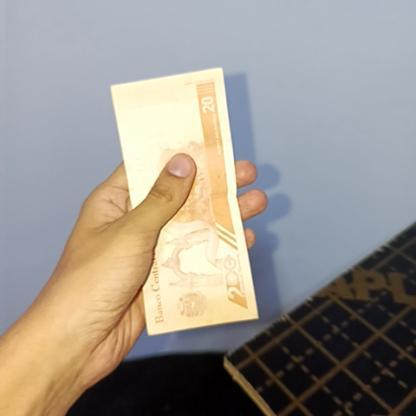twenty-back-vef: (111, 68, 259, 335)
